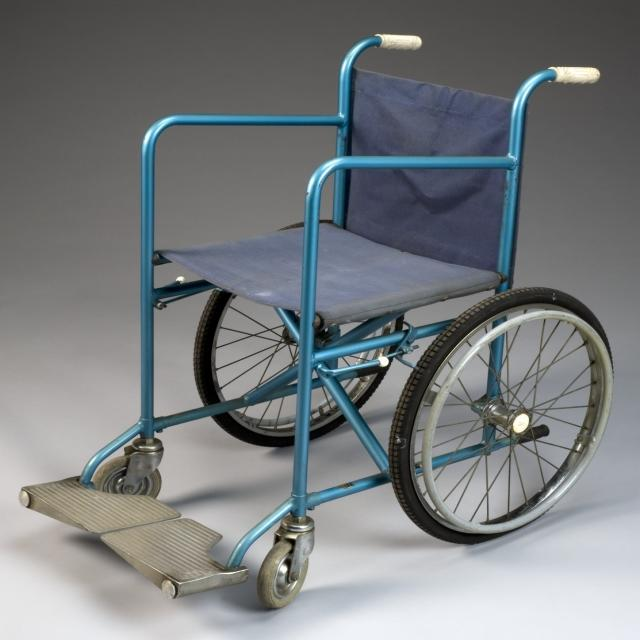wheelchair: (16, 27, 619, 618)
